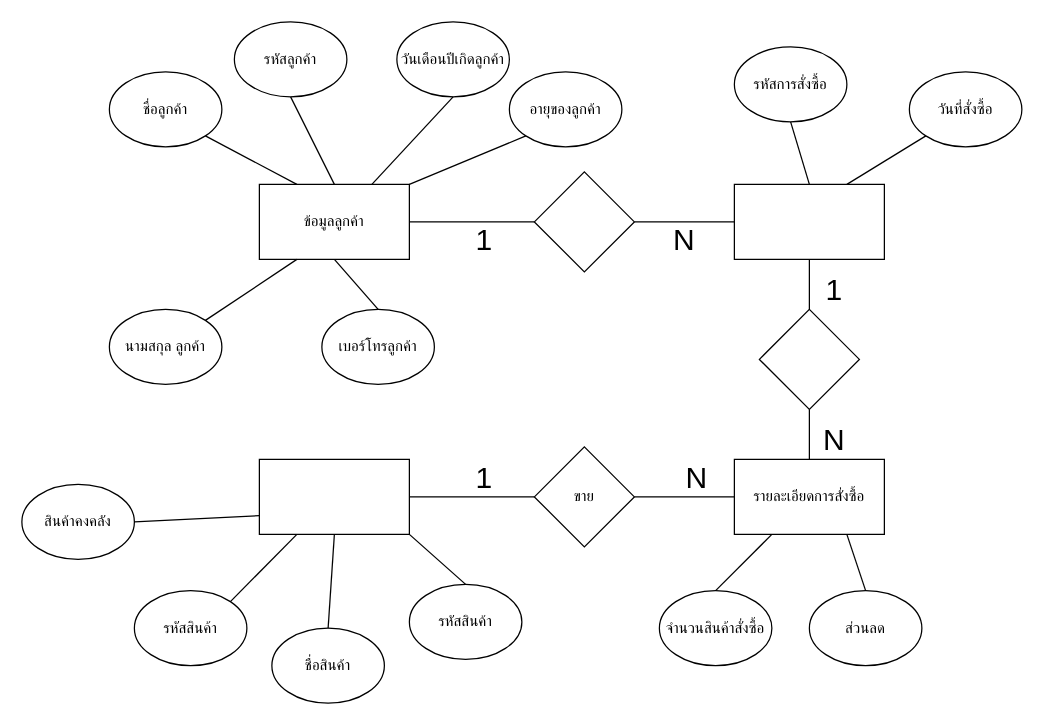
This 1044x725 diagram has some shape labels left out. The shapes that lost their labels are listed below. From the top down, each one's centre as x and y in pixels, then its label:
At (583,221): "ซื้อ".
At (808,221): "การสั่งซื้อ".
At (808,358): "รายการ".
At (333,496): "สินค้า".
